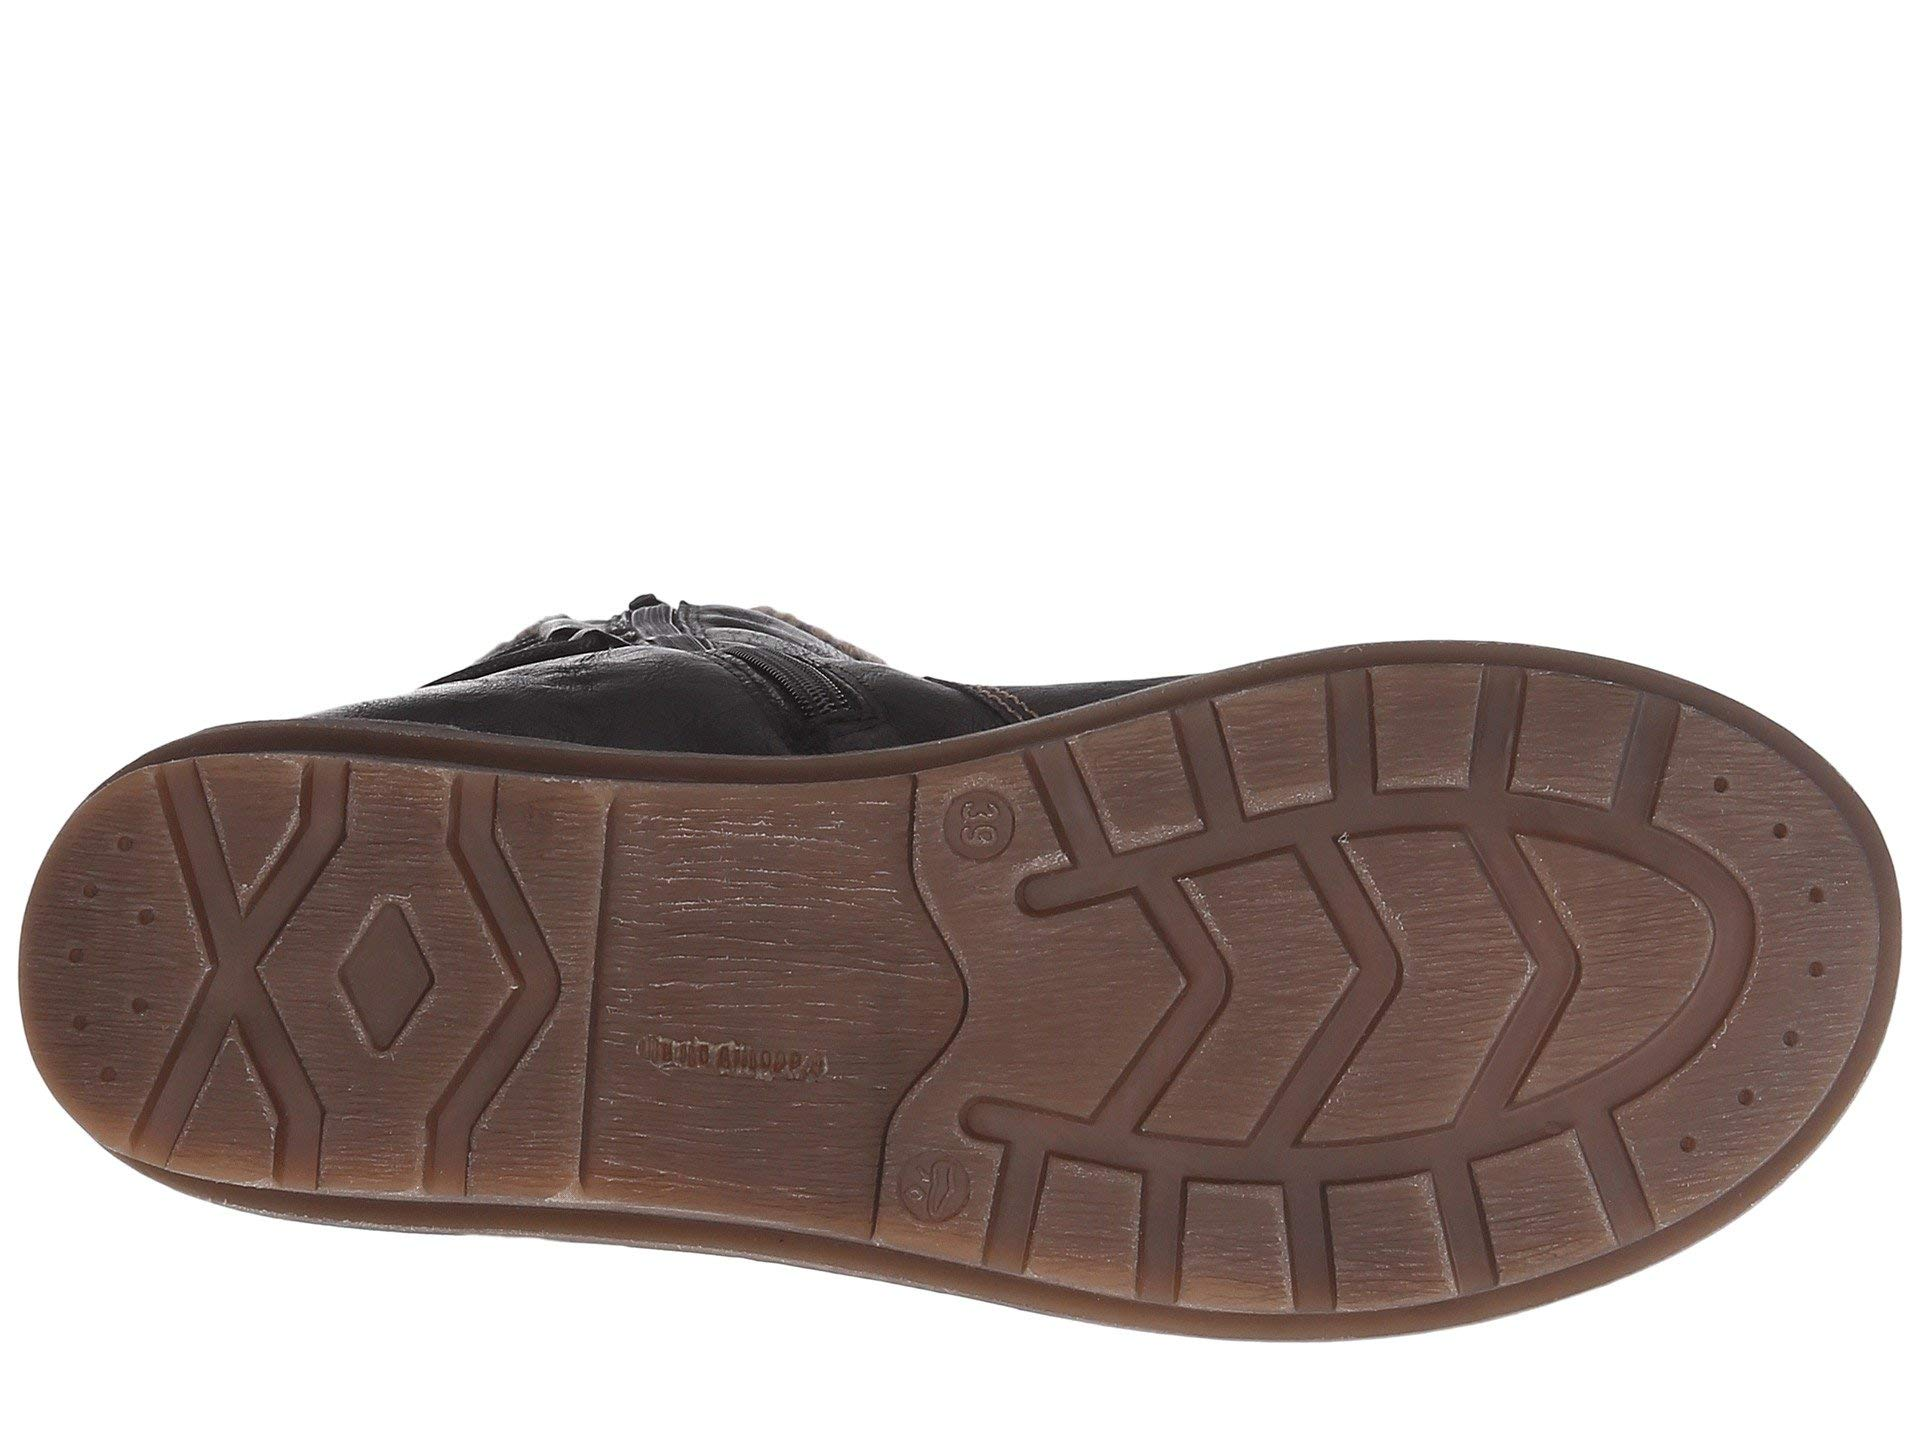chevron: (82, 774, 562, 1168), (1067, 827, 1636, 1156)
circle: (82, 774, 562, 1168), (1668, 749, 1838, 1124), (881, 1128, 1005, 1258), (927, 777, 1022, 877)
quad: (82, 774, 562, 1168), (1023, 1119, 1621, 1316), (1341, 650, 1507, 803), (1518, 643, 1646, 833)
text: (615, 995, 828, 1097), (881, 1128, 1005, 1258), (927, 777, 1022, 877)
